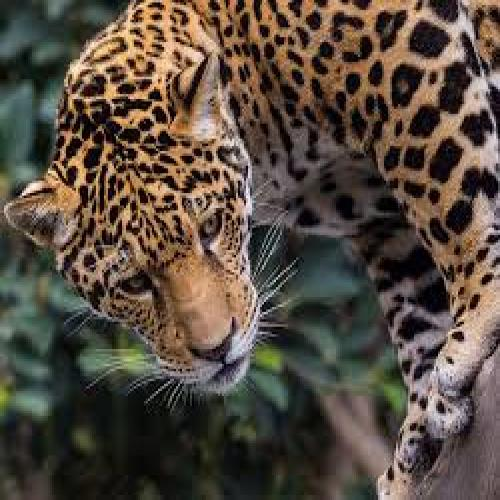jaguar_not-endangered: (36, 0, 500, 391)
